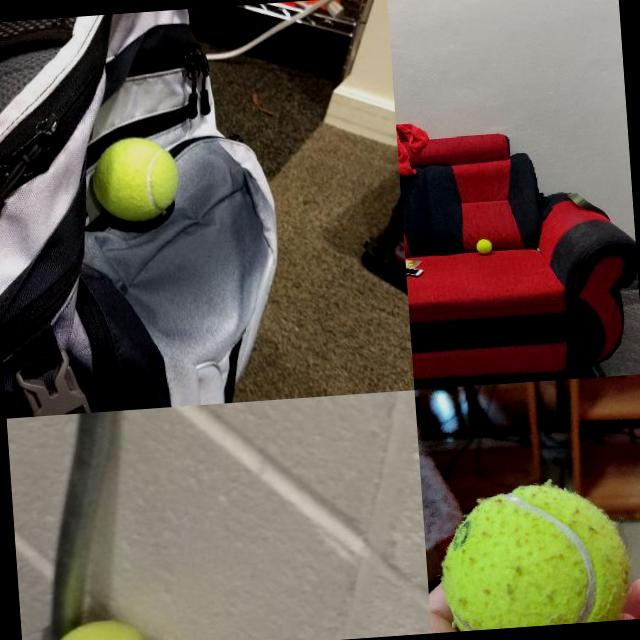Tennis Ball: (434, 477, 634, 631), (88, 133, 180, 224), (38, 613, 165, 640), (474, 237, 492, 254)
